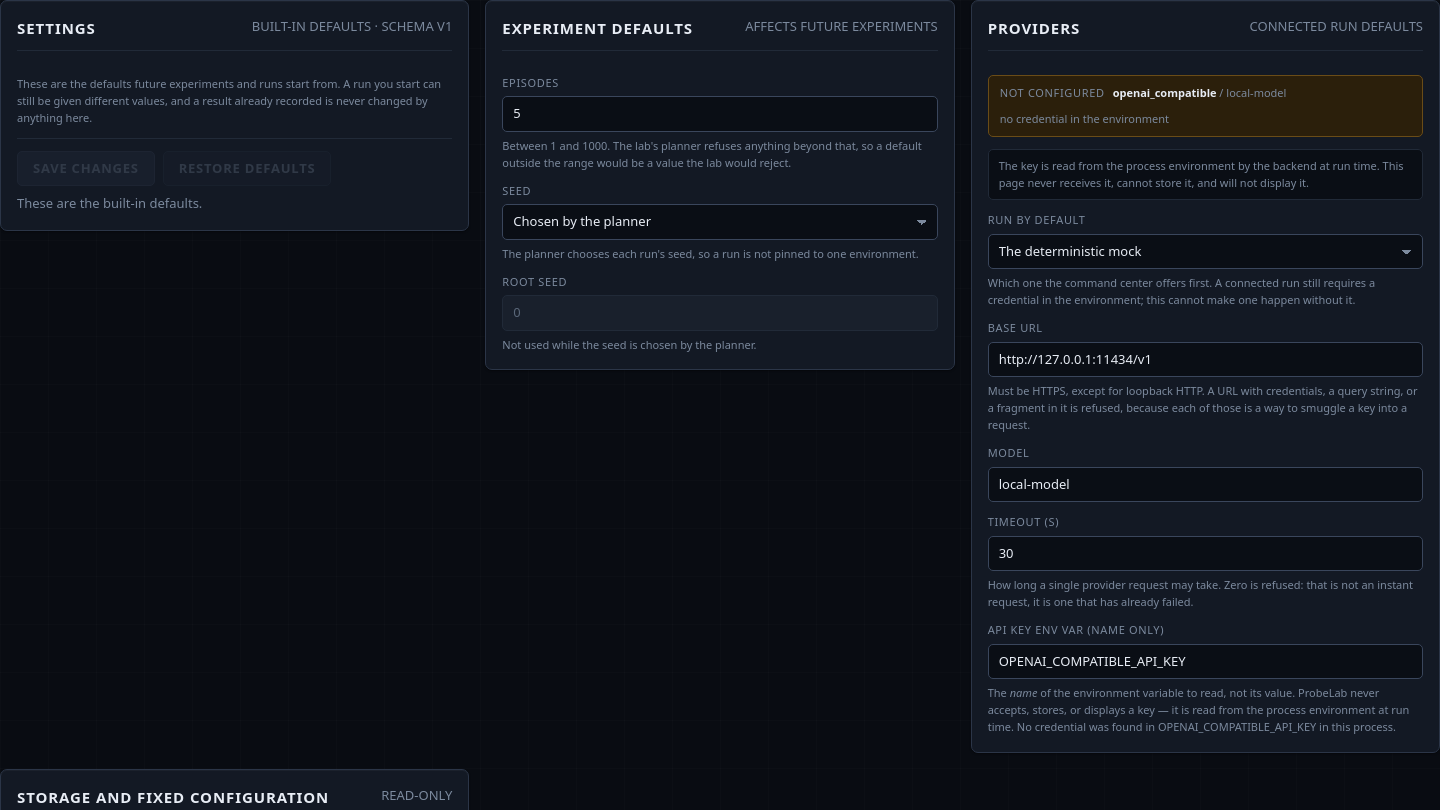
Test: saving › confirms the save and that it persists
Replace the text in the number field labelled "EPISODES" with "9" at (720, 114), box [502, 96, 938, 132]
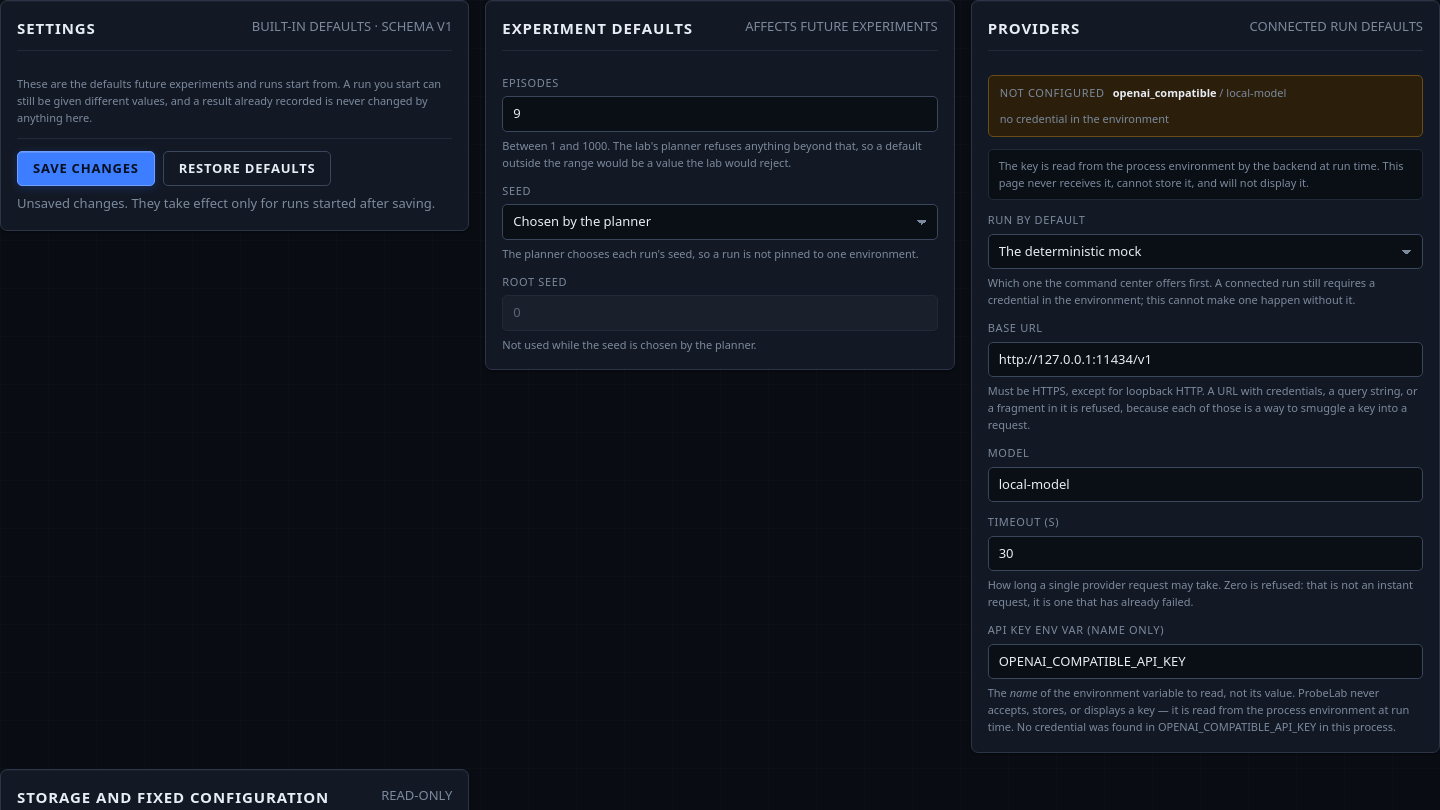
Click the button "SAVE CHANGES".
click(86, 168)  # box [17, 151, 155, 186]
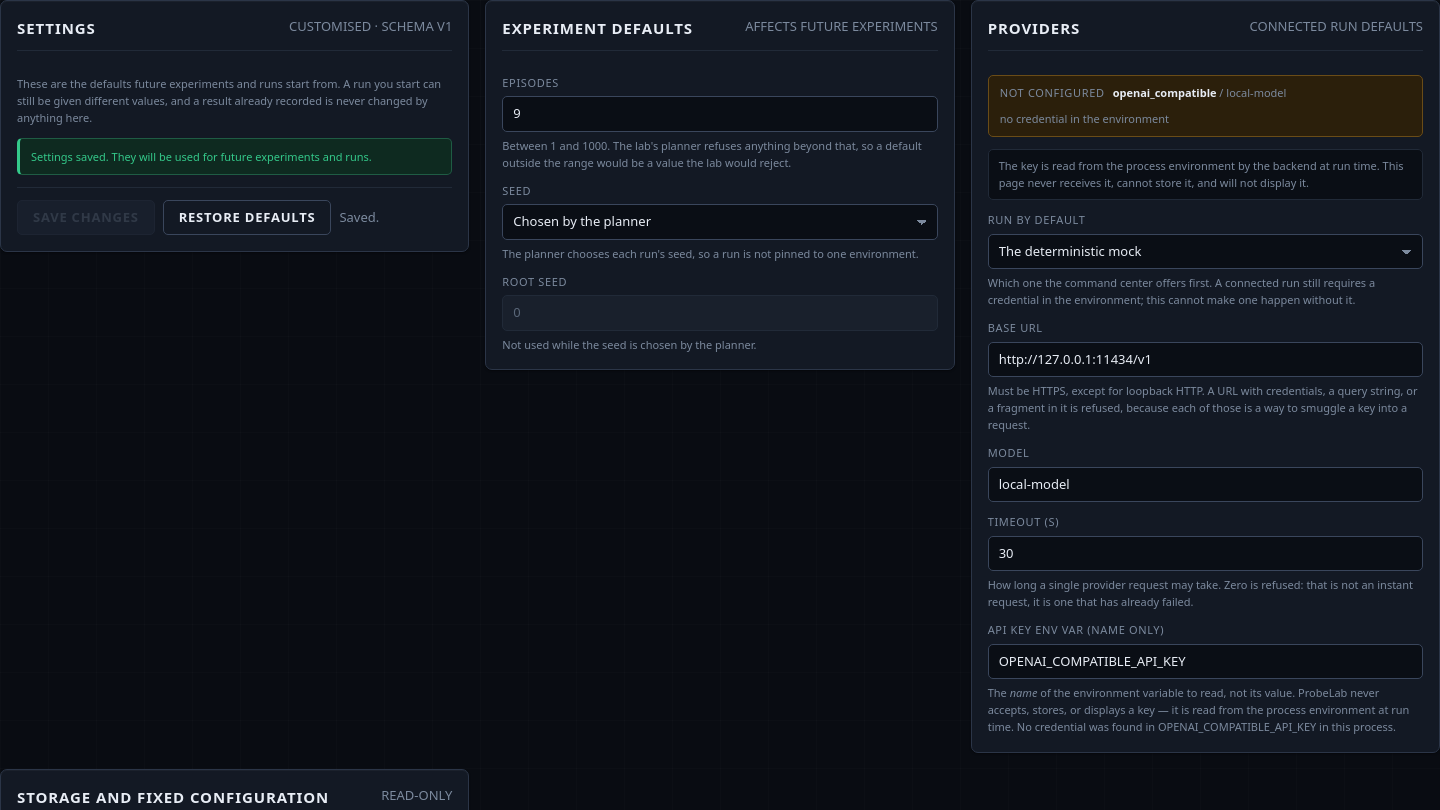
Expected: the message shows "Settings saved", [31, 149, 372, 164]
Expected: the message shows "future experiments", [31, 149, 372, 164]
